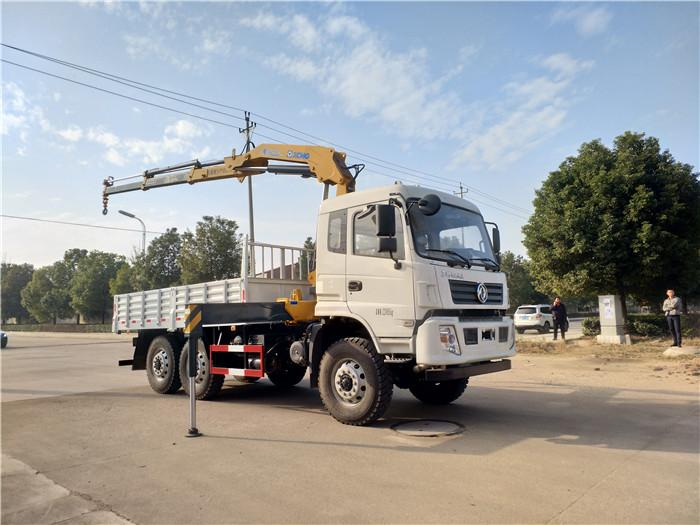truck: (84, 132, 520, 427)
